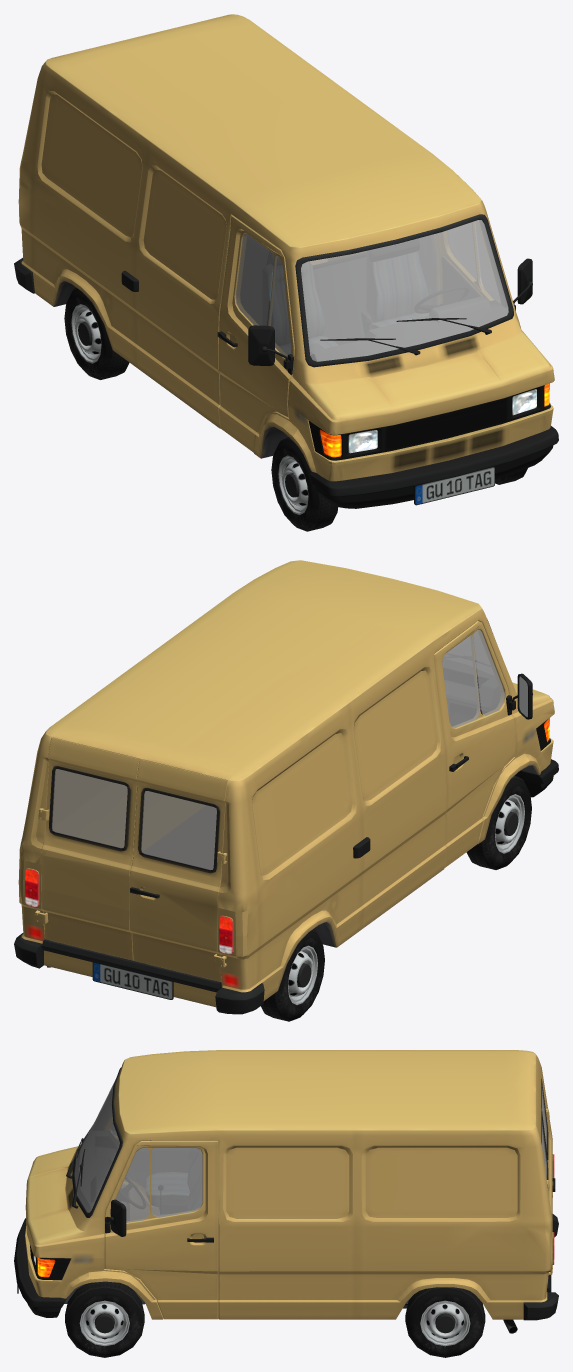
File: van-mb207.glb
3 renders of one model, top to bottom at view 1: azimuth 30°, elevation 25°; view 2: azimuth 150°, elevation 25°; view 3: azimuth 270°, elevation 25°, orthographic. The views are drawn at different scales.
Visible parts, largest first — view 1: polySurface160_van_european_delivery_body_shd_0, glass_windshield_ply_van_european_delivery_glass_shd_0, polySurface149_van_european_delivery_body_shd_0.001, bumper_front_ply_van_european_delivery_trim_shd_0, door_glass_ply_van_european_delivery_glass_shd_0.001, wheel_front_ply_van_european_delivery_wheels_shd_0, seat_front_ply_van_european_delivery_trim_shd_0.001, wheel_front_ply2_van_european_delivery_wheels_shd_0, seat_front_ply_van_european_delivery_trim_shd_0, polySurface149_van_european_delivery_body_shd_0, license_plate_rear_ply1_van_european_delivery_trim_shd_0, door_glass_ply_van_european_delivery_glass_shd_0 (+4 smaller); view 2: polySurface160_van_european_delivery_body_shd_0, polySurface137_van_european_delivery_body_shd_0, polySurface22_van_european_delivery_body_shd_0, polySurface149_van_european_delivery_body_shd_0.001, pCube80_van_european_delivery_glass_shd_0, pCube81_van_european_delivery_glass_shd_0, door_glass_ply_van_european_delivery_glass_shd_0.001, wheel_front_ply_van_european_delivery_wheels_shd_0, wheel_front_ply2_van_european_delivery_wheels_shd_0, license_plate_rear_ply_van_european_delivery_trim_shd_0, lamp_tail_R, lamp_tail_L (+3 smaller); view 3: polySurface160_van_european_delivery_body_shd_0, polySurface149_van_european_delivery_body_shd_0, door_glass_ply_van_european_delivery_glass_shd_0, wheel_front_ply5_van_european_delivery_wheels_shd_0, wheel_front_ply4_van_european_delivery_wheels_shd_0, glass_windshield_ply_van_european_delivery_glass_shd_0, polySurface149_van_european_delivery_body_shd_0.001, bumper_front_ply_van_european_delivery_trim_shd_0, pCube69_van_european_delivery_trim_shd_0, polySurface137_van_european_delivery_body_shd_0, polySurface22_van_european_delivery_body_shd_0, mirror_ply_van_european_delivery_trim_shd_0 (+2 smaller).
Boxes of the visible parts, x1=… form: polySurface160_van_european_delivery_body_shd_0: x1=14, y1=14, x2=554, y2=481; glass_windshield_ply_van_european_delivery_glass_shd_0: x1=301, y1=220, x2=508, y2=361; polySurface149_van_european_delivery_body_shd_0.001: x1=218, y1=215, x2=294, y2=452; bumper_front_ply_van_european_delivery_trim_shd_0: x1=310, y1=426, x2=558, y2=508; door_glass_ply_van_european_delivery_glass_shd_0.001: x1=235, y1=233, x2=291, y2=356; wheel_front_ply_van_european_delivery_wheels_shd_0: x1=271, y1=437, x2=338, y2=531; seat_front_ply_van_european_delivery_trim_shd_0.001: x1=366, y1=250, x2=428, y2=321; wheel_front_ply2_van_european_delivery_wheels_shd_0: x1=64, y1=288, x2=129, y2=379; seat_front_ply_van_european_delivery_trim_shd_0: x1=262, y1=252, x2=324, y2=345; polySurface149_van_european_delivery_body_shd_0: x1=436, y1=220, x2=493, y2=303; license_plate_rear_ply1_van_european_delivery_trim_shd_0: x1=414, y1=466, x2=494, y2=505; door_glass_ply_van_european_delivery_glass_shd_0: x1=448, y1=221, x2=499, y2=302; polySurface160_van_european_delivery_body_shd_0: x1=14, y1=560, x2=554, y2=1014; polySurface137_van_european_delivery_body_shd_0: x1=129, y1=759, x2=227, y2=982; polySurface22_van_european_delivery_body_shd_0: x1=41, y1=737, x2=139, y2=960; polySurface149_van_european_delivery_body_shd_0.001: x1=433, y1=621, x2=515, y2=867; pCube80_van_european_delivery_glass_shd_0: x1=52, y1=769, x2=127, y2=848; pCube81_van_european_delivery_glass_shd_0: x1=141, y1=791, x2=216, y2=870; door_glass_ply_van_european_delivery_glass_shd_0.001: x1=442, y1=630, x2=504, y2=727; wheel_front_ply_van_european_delivery_wheels_shd_0: x1=466, y1=775, x2=531, y2=869; wheel_front_ply2_van_european_delivery_wheels_shd_0: x1=261, y1=929, x2=324, y2=1021; license_plate_rear_ply_van_european_delivery_trim_shd_0: x1=92, y1=962, x2=173, y2=999; lamp_tail_R: x1=218, y1=904, x2=256, y2=958; lamp_tail_L: x1=22, y1=860, x2=48, y2=912; polySurface160_van_european_delivery_body_shd_0: x1=25, y1=1050, x2=558, y2=1320; polySurface149_van_european_delivery_body_shd_0: x1=104, y1=1140, x2=218, y2=1319; door_glass_ply_van_european_delivery_glass_shd_0: x1=110, y1=1148, x2=202, y2=1222; wheel_front_ply5_van_european_delivery_wheels_shd_0: x1=65, y1=1281, x2=144, y2=1357; wheel_front_ply4_van_european_delivery_wheels_shd_0: x1=405, y1=1287, x2=485, y2=1357; glass_windshield_ply_van_european_delivery_glass_shd_0: x1=74, y1=1079, x2=119, y2=1212; polySurface149_van_european_delivery_body_shd_0.001: x1=106, y1=1116, x2=190, y2=1207; bumper_front_ply_van_european_delivery_trim_shd_0: x1=14, y1=1218, x2=66, y2=1317; pCube69_van_european_delivery_trim_shd_0: x1=146, y1=1172, x2=189, y2=1206; polySurface137_van_european_delivery_body_shd_0: x1=535, y1=1056, x2=552, y2=1180; polySurface22_van_european_delivery_body_shd_0: x1=535, y1=1091, x2=552, y2=1215; mirror_ply_van_european_delivery_trim_shd_0: x1=110, y1=1199, x2=126, y2=1236.
Bounding box in the file's own units: 2.66 × 2.51 × 5.37.
Materials: 5 (4 with a texture image).
